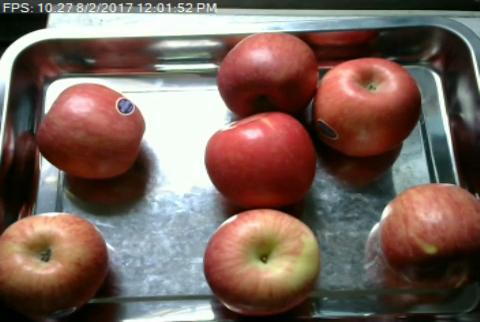apple: (204, 210, 321, 317), (0, 212, 109, 316), (311, 57, 424, 156), (205, 112, 317, 209), (37, 82, 146, 180), (381, 183, 480, 288), (217, 34, 317, 115)
